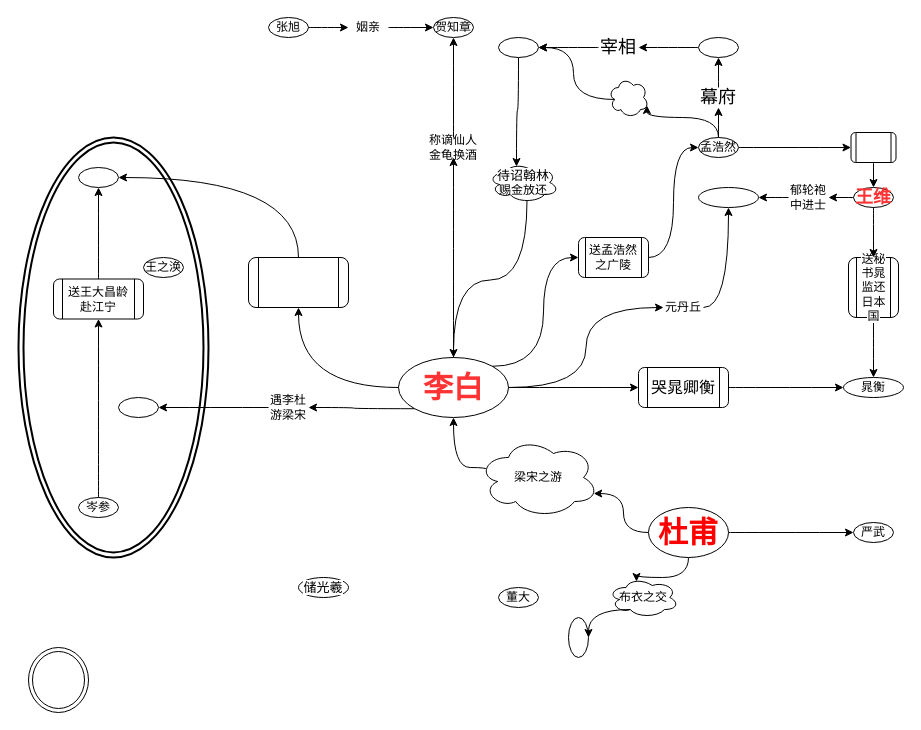
The diagram is 921 pixels wide and 730 high, and some of its shapes have lost their labels. The centre of each missing label's shape, as x and y in pixels:
"不才明主弃" belongs at (x=628, y=97).
"唐玄宗" belongs at (x=518, y=47).
"张九龄" belongs at (x=718, y=47).
"房琯" belongs at (x=578, y=637).
"玉真公主" belongs at (x=728, y=197).
"王昌龄" belongs at (x=98, y=177).
"留别王维" belongs at (x=873, y=147).
"闻王昌龄左迁龙标遥有此寄" belongs at (x=298, y=282).
"高适" belongs at (x=138, y=407).
